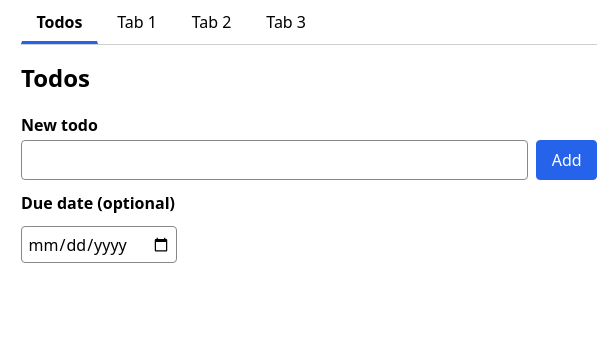
Scenario: UI11 failed add › UI11 in App: a non-Error failure shows 'Could not add todo.'
Type "Weird" into the field with id "new-title" at (275, 160), box [21, 140, 528, 180]
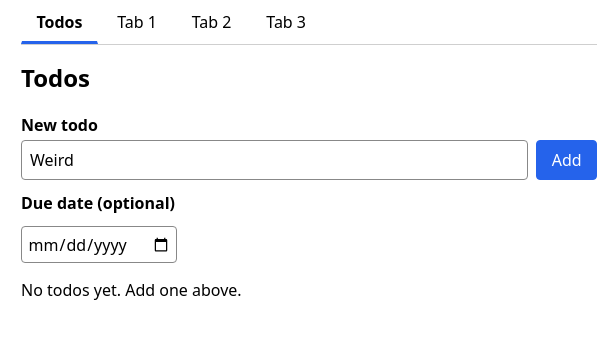
Submit the form with id "add-form", box [21, 114, 597, 263]
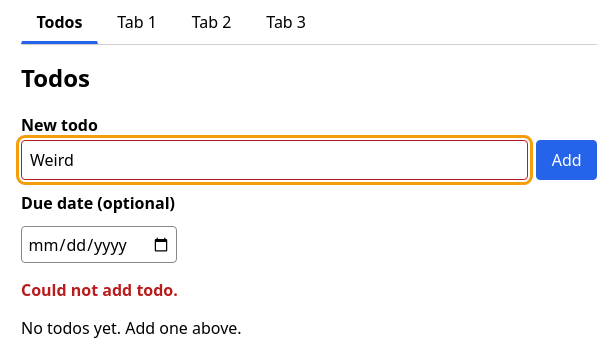
Result: the text with id "form-error" reads "Could not add todo." at [21, 279, 178, 301]
